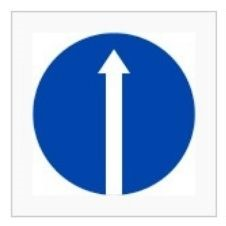Go_straight: (31, 31, 198, 198)
